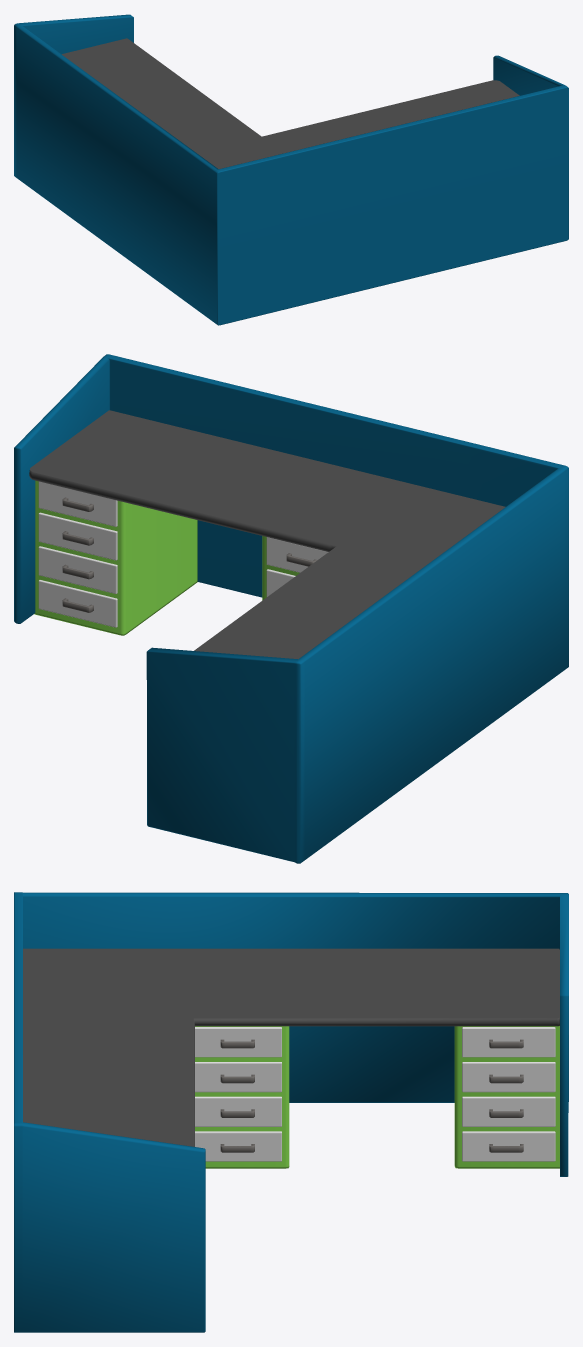
The model's file is ServiceDesk.fbx.
The picture shows the model from 3 angles, top to bottom: view 1: azimuth 30°, elevation 25°; view 2: azimuth 150°, elevation 25°; view 3: azimuth 270°, elevation 25°; orthographic projection. The views are drawn at different scales.
Visible parts, largest first — view 1: ServiceDesk; view 2: ServiceDesk; view 3: ServiceDesk.
Part boxes in pixels (x1,y1,x2,y2): ServiceDesk: [14, 14, 568, 325]; ServiceDesk: [14, 354, 568, 863]; ServiceDesk: [14, 892, 568, 1332].
Size of the model in its own units: 511 by 213 by 513.
